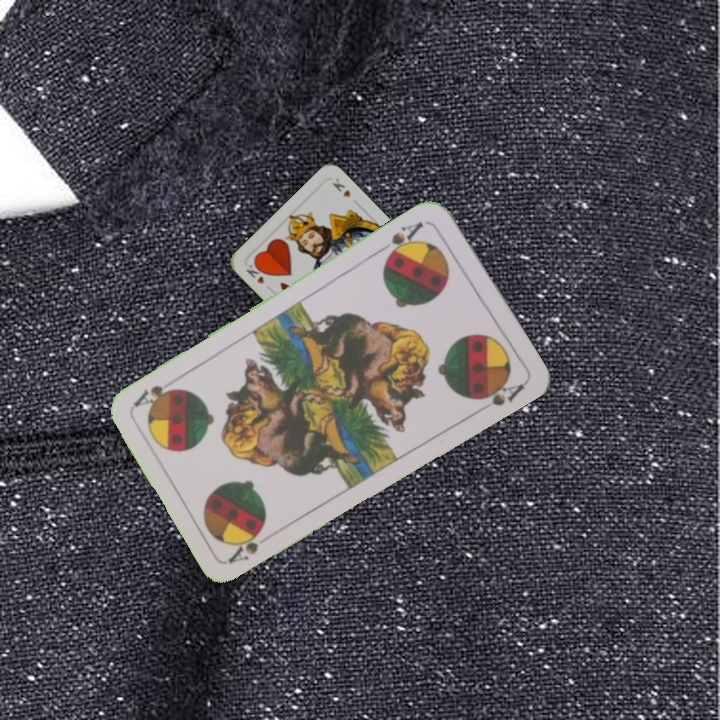HK: (242, 265, 266, 286)
SA: (224, 523, 278, 566), (376, 217, 427, 262)
